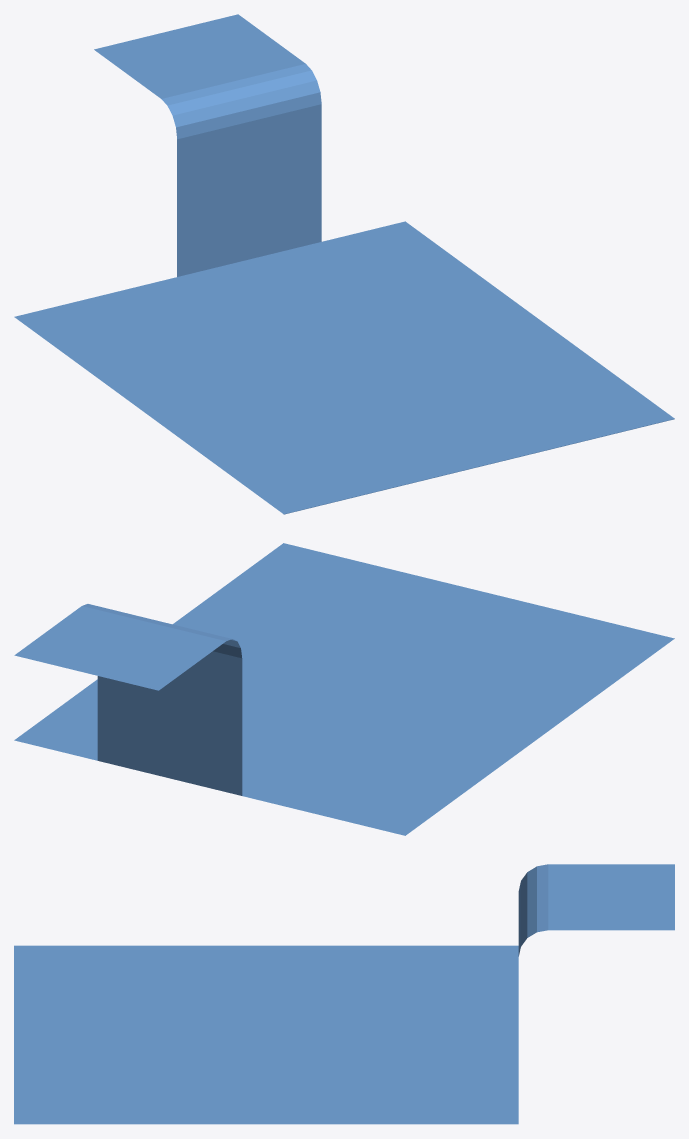
File: water_flow-v1.glb
The picture shows the model from 3 angles, top to bottom: view 1: azimuth 30°, elevation 25°; view 2: azimuth 150°, elevation 25°; view 3: azimuth 270°, elevation 25°; orthographic projection. The views are drawn at different scales.
Visible parts, largest first — view 1: water_down; view 2: water_down; view 3: water_down.
Part boxes in pixels (bbox=[...]): water_down: bbox=[14, 14, 674, 514]; water_down: bbox=[14, 543, 674, 835]; water_down: bbox=[14, 864, 674, 1124].
Bounding box in the file's own units: 2.81 × 1.15 × 4.39.
